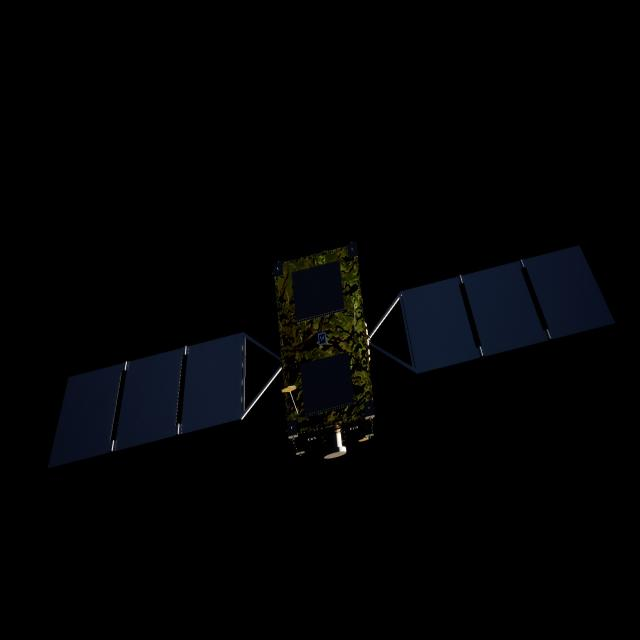satellite: (50, 241, 616, 468)
